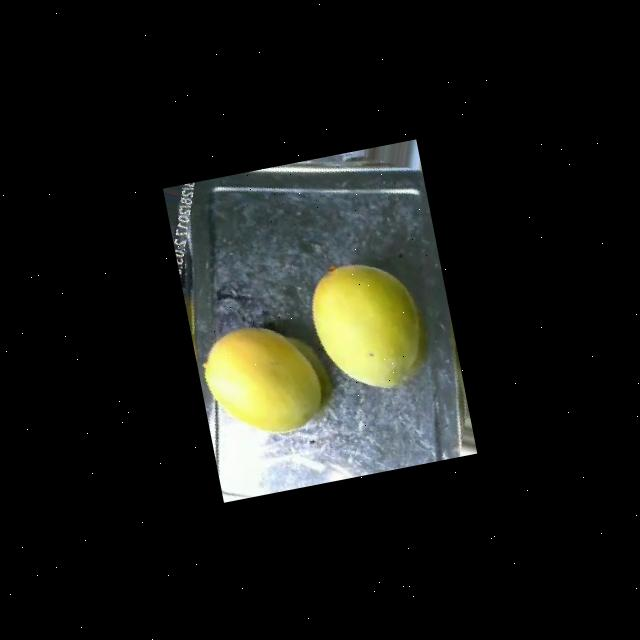Mango: (302, 251, 432, 400), (196, 315, 329, 446)
